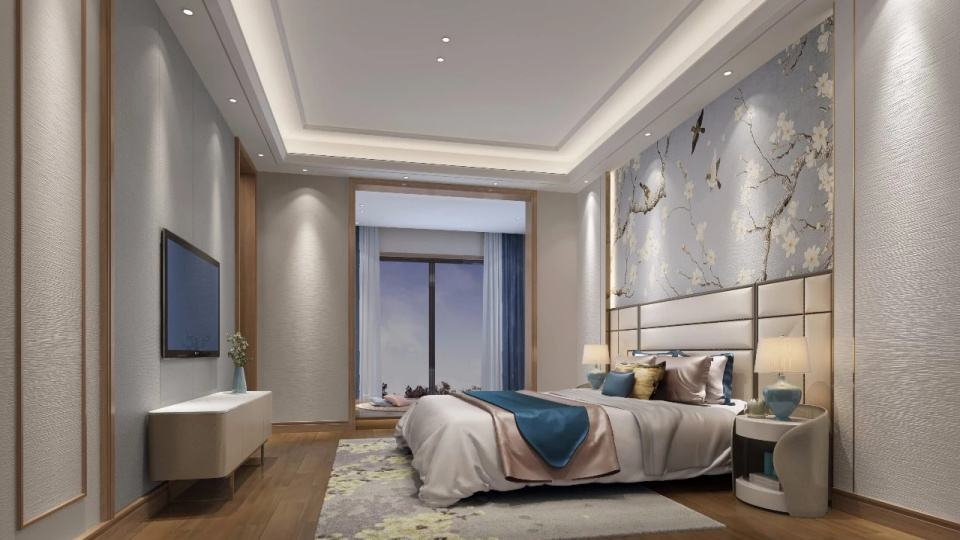床: (391, 387, 756, 507)
枕头: (594, 358, 738, 416)
灯: (761, 337, 814, 414), (582, 348, 615, 388), (177, 7, 197, 20), (436, 36, 456, 48), (433, 53, 450, 67), (643, 130, 657, 143), (225, 97, 241, 108)
